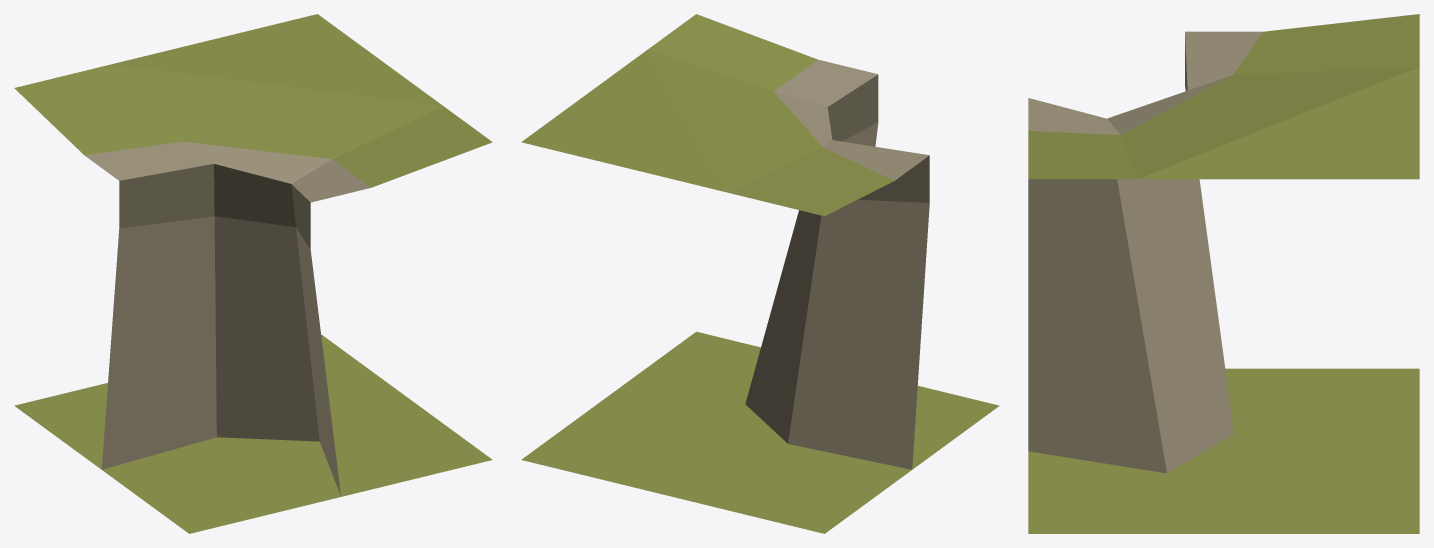
The model's file is forest_cliff_inner01.glb.
The picture shows the model from 3 angles, left to right: view 1: azimuth 30°, elevation 25°; view 2: azimuth 150°, elevation 25°; view 3: azimuth 270°, elevation 25°; orthographic projection. The views are drawn at different scales.
Parts seen in each view (by area): view 1: forest_cliff02-col.003, forest_cliff_inner01-col; view 2: forest_cliff02-col.003, forest_cliff_inner01-col; view 3: forest_cliff02-col.003, forest_cliff_inner01-col.
Part boxes in pixels (left/top/right/bottom): forest_cliff02-col.003: left=14, top=14, right=492, bottom=495; forest_cliff_inner01-col: left=14, top=334, right=492, bottom=533; forest_cliff02-col.003: left=521, top=14, right=929, bottom=469; forest_cliff_inner01-col: left=521, top=331, right=999, bottom=533; forest_cliff02-col.003: left=1028, top=14, right=1419, bottom=473; forest_cliff_inner01-col: left=1028, top=368, right=1419, bottom=533.
Size of the model in its own units: 10 by 10 by 10.
